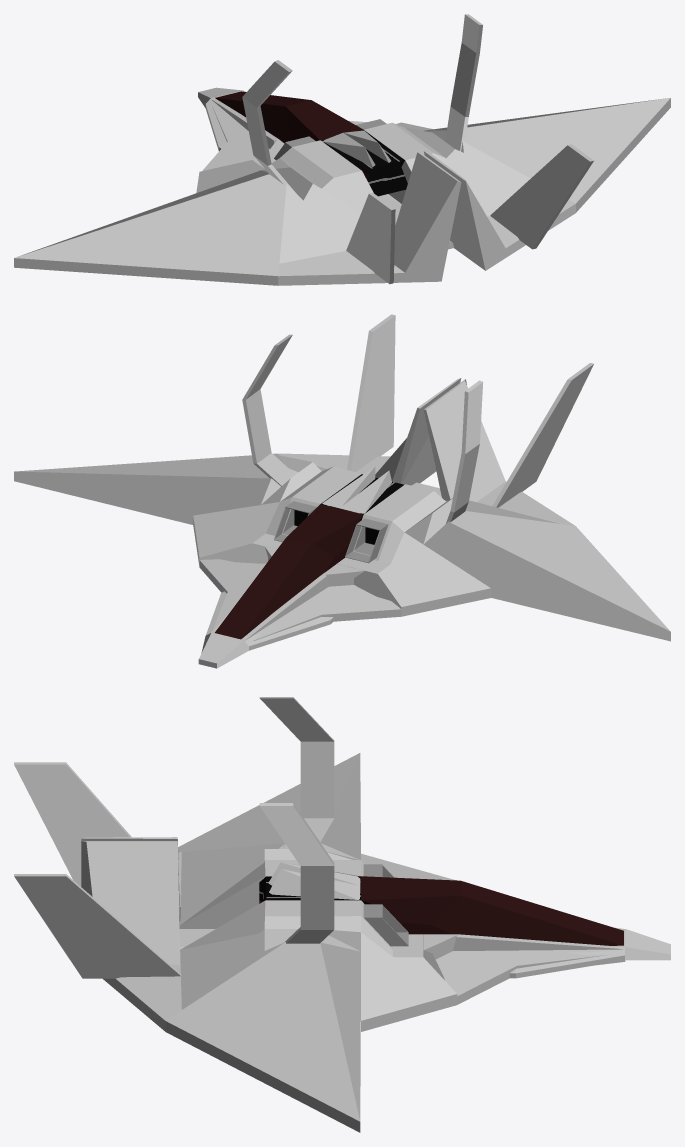
Rendered from EnemySpaceship.obj.
The picture shows the model from 3 angles, top to bottom: view 1: azimuth 30°, elevation 25°; view 2: azimuth 150°, elevation 25°; view 3: azimuth 270°, elevation 25°; orthographic projection. The views are drawn at different scales.
Parts seen in each view (by area): view 1: Cube.013_Cube.004; view 2: Cube.013_Cube.004; view 3: Cube.013_Cube.004.
Part boxes in pixels (left/top/right/bottom): Cube.013_Cube.004: left=14, top=14, right=670, bottom=285; Cube.013_Cube.004: left=14, top=314, right=670, bottom=668; Cube.013_Cube.004: left=14, top=697, right=670, bottom=1132.
Size of the model in its own units: 21.92 by 5.68 by 16.49.
